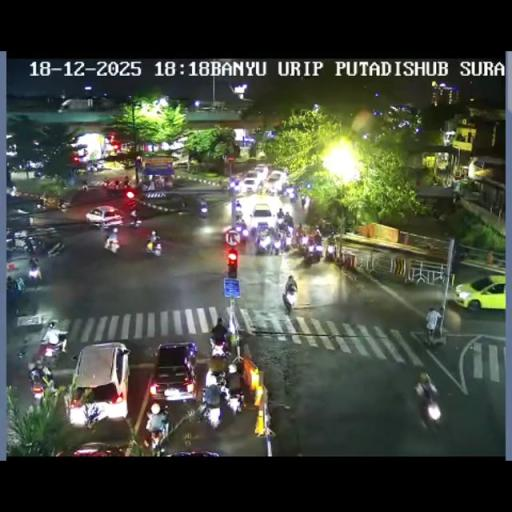Car: (68, 342, 130, 425), (148, 342, 198, 403), (454, 274, 506, 310), (58, 441, 131, 455), (85, 206, 124, 228), (250, 203, 274, 230), (265, 170, 286, 192), (242, 176, 260, 194), (254, 163, 268, 178)
Motorcycle: (417, 390, 442, 432), (198, 395, 223, 430), (29, 368, 51, 406), (146, 422, 168, 454), (208, 342, 230, 372), (424, 316, 442, 346), (226, 387, 244, 416), (46, 334, 69, 356), (6, 283, 22, 314), (305, 238, 324, 262), (282, 286, 296, 314), (255, 231, 271, 254), (28, 262, 42, 288), (103, 234, 120, 254), (145, 237, 162, 257), (46, 240, 64, 258), (317, 217, 334, 235), (233, 220, 247, 241), (205, 369, 218, 387), (218, 382, 230, 401), (276, 232, 286, 254), (276, 216, 288, 234), (6, 232, 17, 251), (457, 246, 470, 262), (290, 230, 302, 247), (25, 236, 36, 254), (326, 241, 336, 260), (228, 180, 238, 198), (198, 200, 208, 218), (130, 214, 142, 228), (250, 222, 258, 240), (234, 199, 242, 215), (34, 200, 46, 210), (58, 198, 68, 210), (288, 189, 297, 202), (219, 182, 229, 192), (300, 194, 308, 206), (301, 234, 309, 246), (86, 162, 95, 172), (180, 195, 186, 210), (102, 178, 110, 188), (277, 208, 284, 219), (123, 175, 129, 187), (82, 184, 88, 191), (114, 180, 119, 188)
